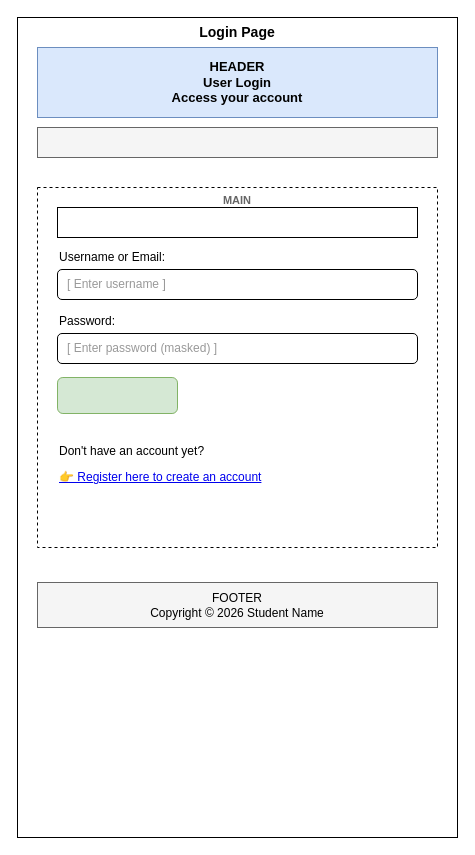
Image size: 475x855. Some labels were removed from this diagram. Each missing label, with the centre of its shape:
"Log In" belongs at point (237, 222).
"Login" belongs at point (117, 395).
"NAV: ← Back to Home Page" belongs at point (237, 142).
